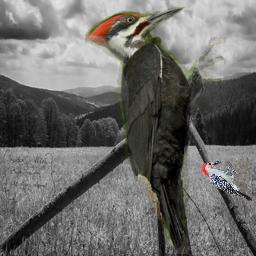Woodpecker: (85, 6, 226, 254), (202, 161, 252, 202)
